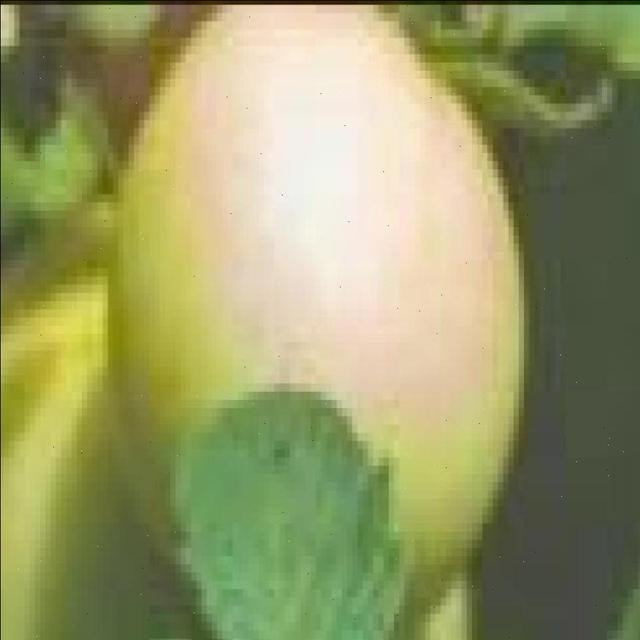Sunscald Fruit: (122, 0, 337, 282)
